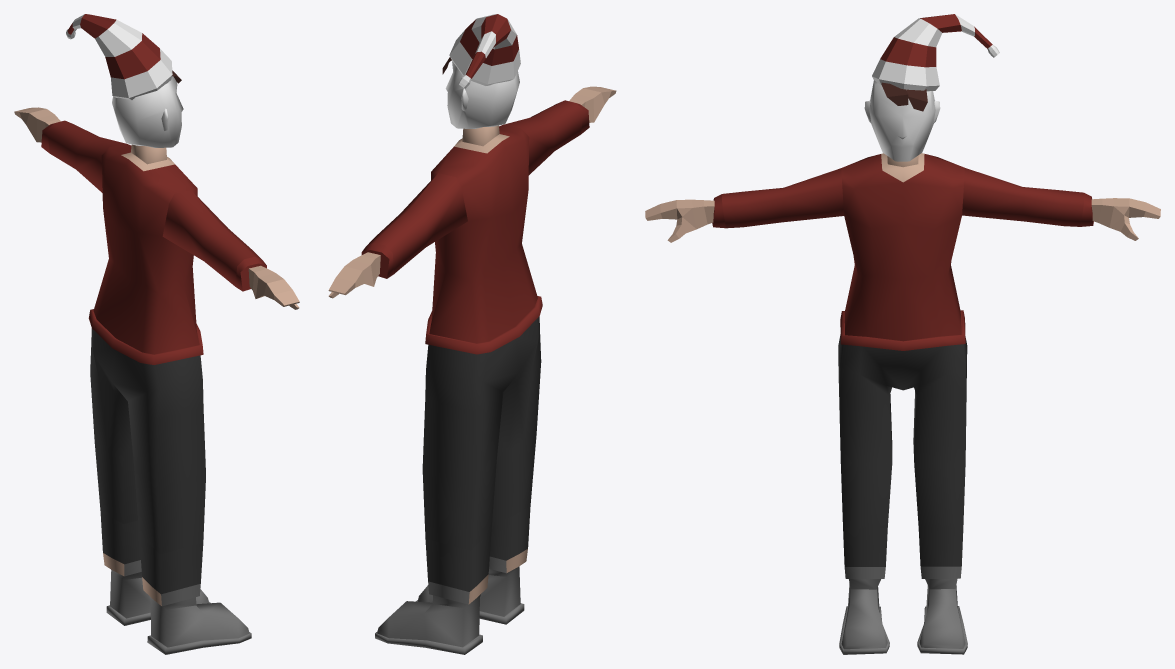
Rendered from NPC2_bibertino.fbx.
3 renders of one model, left to right at view 1: azimuth 30°, elevation 25°; view 2: azimuth 150°, elevation 25°; view 3: azimuth 270°, elevation 25°, orthographic. The views are drawn at different scales.
Parts seen in each view (by area): view 1: Telo.006; view 2: Telo.006; view 3: Telo.006.
Boxes of the visible parts, x1,y1,x2,y2 form: Telo.006: [14, 14, 299, 654]; Telo.006: [328, 14, 616, 654]; Telo.006: [645, 14, 1160, 654].
Bounding box in the file's own units: 28.59 × 147 × 116.
